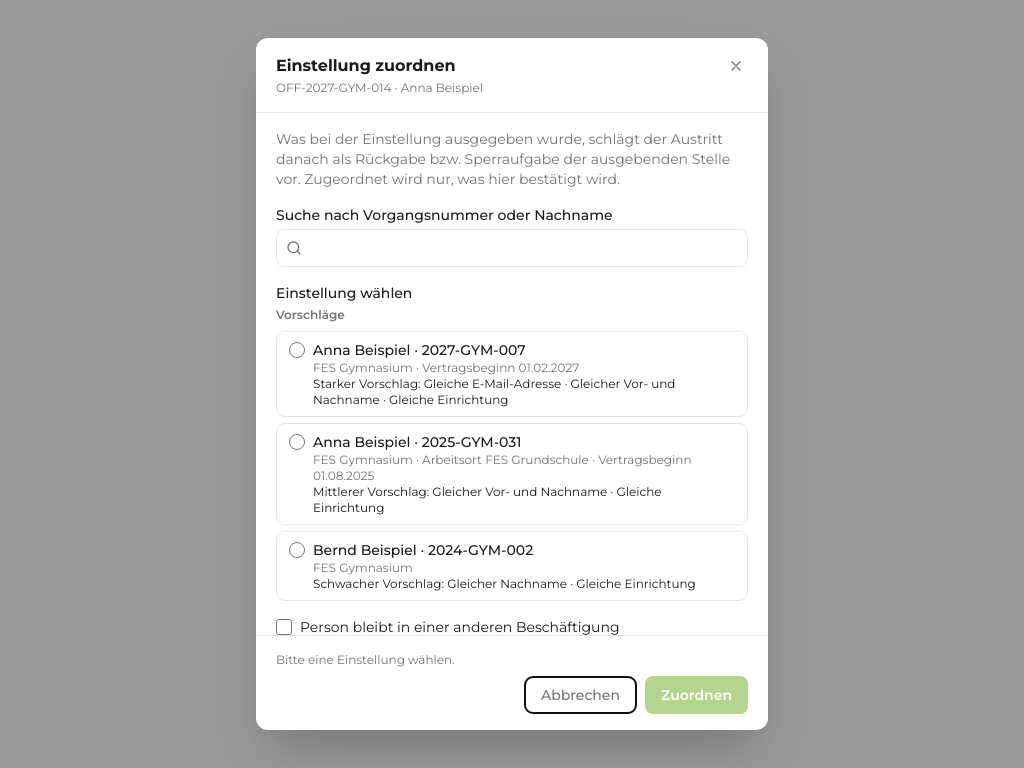
Test case: Zuordnen › Sperrgrund der Vorschau (vergeben) sperrt „Zuordnen“ mit sichtbarem Grund
The image size is (1024, 768).
Click the 1st radio button at (297, 350), box 289,342 -> 305,358
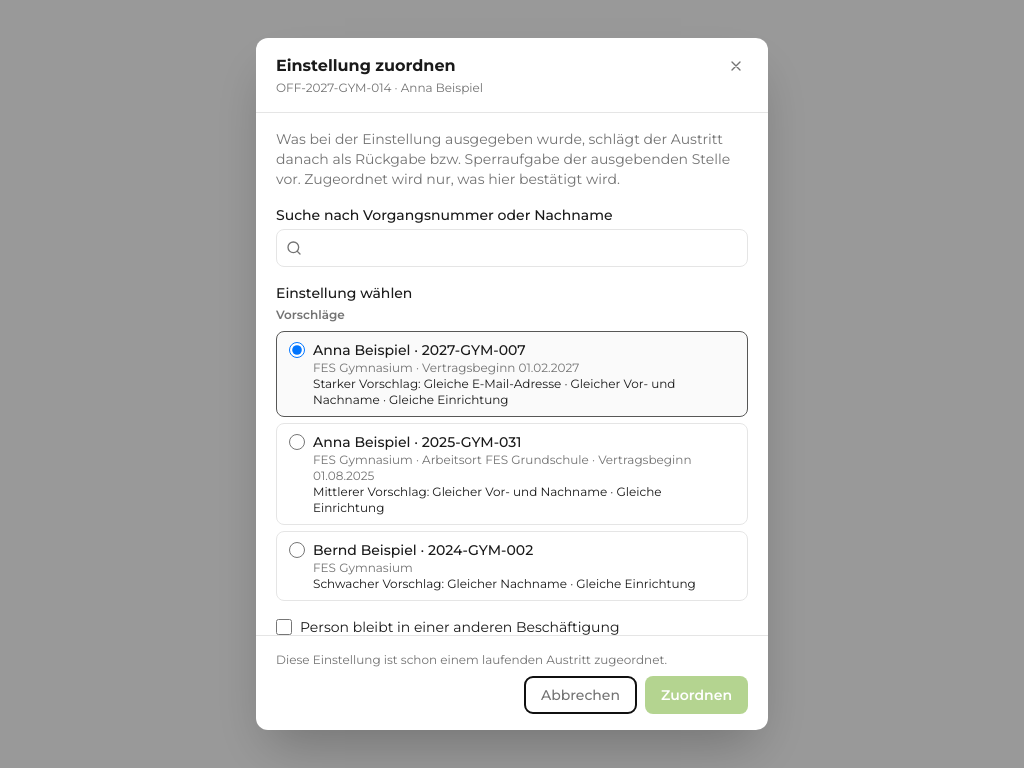
Expected: the button "Zuordnen" is disabled, 645,676 -> 748,714
Expected: the text "Diese Einstellung ist schon einem laufenden Austritt zugeordnet." is shown, 276,652 -> 667,667
